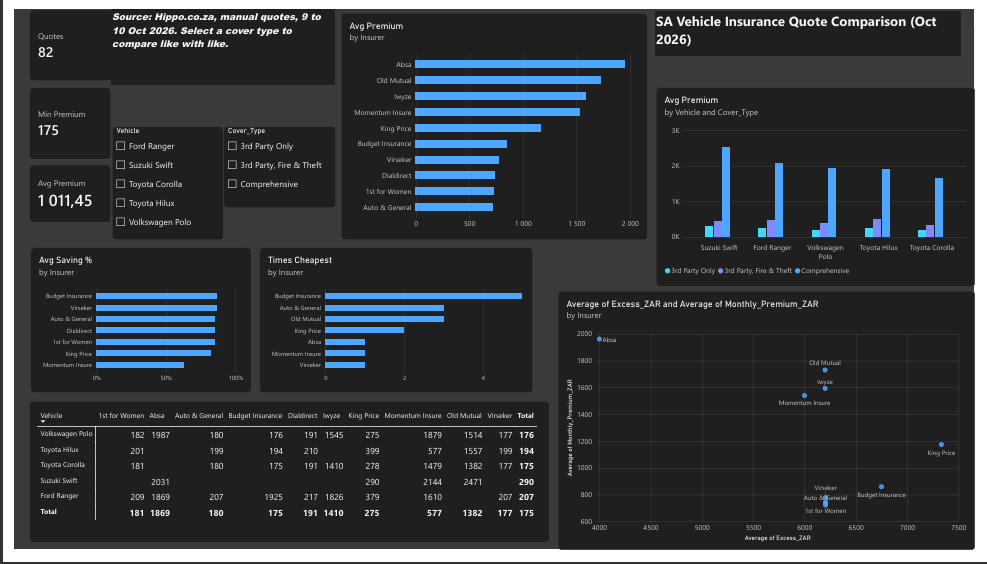

What the dashboard file says about the page in this screenshot:
{"tool":"powerbi","page":{"name":"Page 1","canvas":[1920,1080],"ordinal":0},"visuals":[{"type":"cardVisual","fields":{"Data":["Clean.Quotes"]},"box":[28.9,0,165.2,142.5],"z":0},{"type":"cardVisual","fields":{"Data":["Clean.Min Premium"]},"box":[28.9,154.8,163.1,144.5],"z":1000},{"type":"cardVisual","fields":{"Data":["Clean.Avg Premium"]},"box":[28.9,309.7,163.1,115.6],"z":2000},{"type":"slicer","fields":{"Values":["Clean.Cover_Type"]},"box":[417,233.3,225,163.1],"z":3000},{"type":"slicer","fields":{"Values":["Clean.Vehicle"]},"box":[194.1,233.3,223,227.1],"z":4000},{"type":"clusteredBarChart","fields":{"Category":["Clean.Insurer"],"Y":["Clean.Avg Premium"]},"box":[652.4,6.2,612.3,453.5],"z":5000},{"type":"clusteredColumnChart","fields":{"Category":["Clean.Vehicle"],"Y":["Clean.Avg Premium"],"Series":["Clean.Cover_Type"]},"box":[1282.1,154.8,637.5,398.1],"z":6000},{"type":"pivotTable","fields":{"Rows":["Clean.Vehicle"],"Columns":["Clean.Insurer"],"Values":["Clean.Min Premium"]},"box":[28.9,782.5,1040.5,282.8],"z":7000},{"type":"scatterChart","fields":{"X":["Avg(Clean.Excess_ZAR)"],"Y":["Avg(Clean.Monthly_Premium_ZAR)"],"Category":["Clean.Insurer"]},"box":[1085.9,561.5,834.1,518.2],"z":7001},{"type":"clusteredBarChart","fields":{"Category":["Clean.Insurer"],"Y":["Clean.Avg Saving %"]},"box":[31,474.8,441.8,291.1],"z":7002},{"type":"clusteredBarChart","fields":{"Category":["Clean.Insurer"],"Y":["Clean.Times Cheapest"]},"box":[489.3,474.8,547.1,291.1],"z":7003},{"type":"textbox","box":[1282.1,4.1,611.1,88.8],"z":7004},{"type":"textbox","box":[194.1,0,448,150.7],"z":7005}]}

Visuals, with their boxes in screenshot pixels (x1, y1, x2, y2), scaled from the page's 1920x1080 canvas onto the 987x564 screenshot:
cardVisual - Clean.Quotes: bbox=[15, 0, 100, 74]
cardVisual - Clean.Min Premium: bbox=[15, 81, 99, 156]
cardVisual - Clean.Avg Premium: bbox=[15, 162, 99, 222]
slicer - Clean.Cover_Type: bbox=[214, 122, 330, 207]
slicer - Clean.Vehicle: bbox=[100, 122, 214, 240]
clusteredBarChart - Clean.Insurer x Clean.Avg Premium: bbox=[335, 3, 650, 240]
clusteredColumnChart - Clean.Vehicle x Clean.Avg Premium: bbox=[659, 81, 986, 289]
pivotTable - Clean.Vehicle x Clean.Insurer: bbox=[15, 409, 550, 556]
scatterChart - Avg(Clean.Excess_ZAR) x Avg(Clean.Monthly_Premium_ZAR): bbox=[558, 293, 986, 563]
clusteredBarChart - Clean.Insurer x Clean.Avg Saving %: bbox=[16, 248, 243, 400]
clusteredBarChart - Clean.Insurer x Clean.Times Cheapest: bbox=[252, 248, 533, 400]
textbox: bbox=[659, 2, 973, 49]
textbox: bbox=[100, 0, 330, 79]
